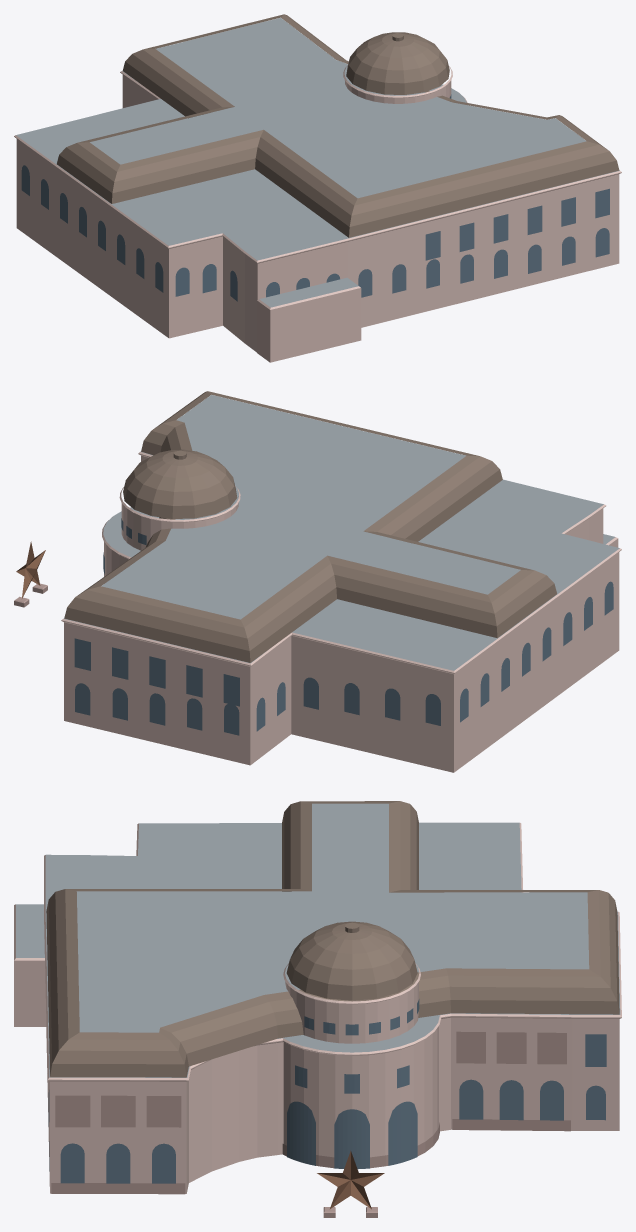
Rendered from atx-bullock-museum.glb.
The picture shows the model from 3 angles, top to bottom: view 1: azimuth 30°, elevation 25°; view 2: azimuth 150°, elevation 25°; view 3: azimuth 270°, elevation 25°; orthographic projection. The views are drawn at different scales.
Parts seen in each view (by area): view 1: Bullock Texas State History Museum; view 2: Bullock Texas State History Museum; view 3: Bullock Texas State History Museum.
Part boxes in pixels (x1,y1,x2,y2): Bullock Texas State History Museum: [14, 14, 621, 362]; Bullock Texas State History Museum: [14, 391, 621, 772]; Bullock Texas State History Museum: [14, 801, 621, 1217].
Size of the model in its own units: 99 by 34 by 90.88.
